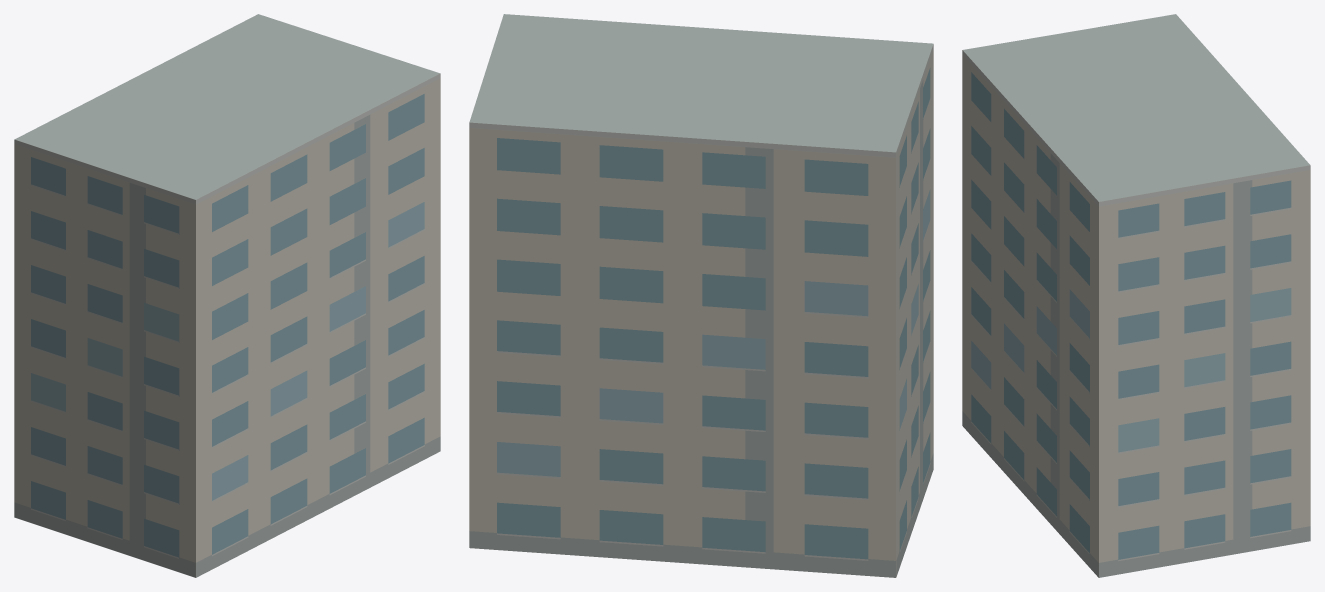
File: survey-upis-32931573.glb
The picture shows the model from 3 angles, left to right: view 1: azimuth 30°, elevation 25°; view 2: azimuth 150°, elevation 25°; view 3: azimuth 270°, elevation 25°; orthographic projection. The views are drawn at different scales.
Visible parts, largest first — view 1: survey-upis-32931573.tmp; view 2: survey-upis-32931573.tmp; view 3: survey-upis-32931573.tmp.
Boxes of the visible parts, x1=… form: survey-upis-32931573.tmp: x1=14, y1=14, x2=440, y2=577; survey-upis-32931573.tmp: x1=469, y1=14, x2=933, y2=577; survey-upis-32931573.tmp: x1=962, y1=14, x2=1310, y2=577.
Size of the model in its own units: 21.03 by 19.6 by 16.46.
